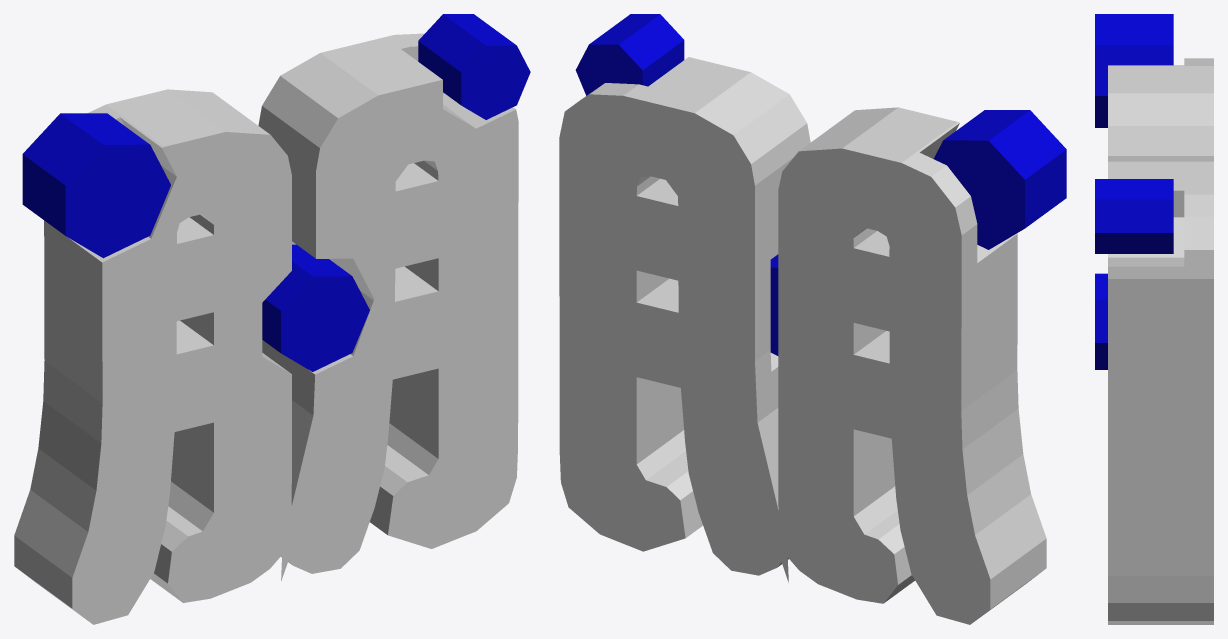
The model's file is Ch_Lite_China_朋_01.fbx.
3 views of the same model, side by side, from view 1: azimuth 30°, elevation 25°; view 2: azimuth 150°, elevation 25°; view 3: azimuth 270°, elevation 25° (orthographic). The views are drawn at different scales.
Parts seen in each view (by area): view 1: sphere1; view 2: sphere1; view 3: sphere1.
Part boxes in pixels (x1,y1,x2,y2): sphere1: (14, 14, 530, 624); sphere1: (559, 14, 1066, 624); sphere1: (1095, 14, 1213, 624).
Size of the model in its own units: 0.9241 by 0.9438 by 0.2242.
